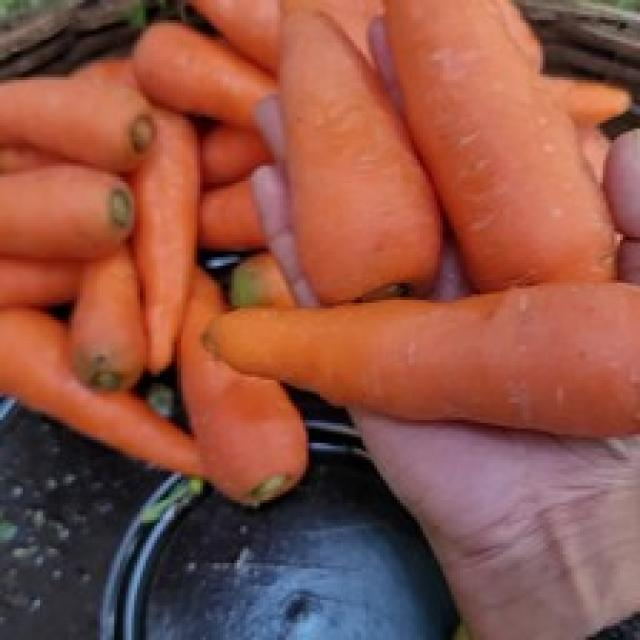Fresh_Carrot: (214, 295, 640, 436)
